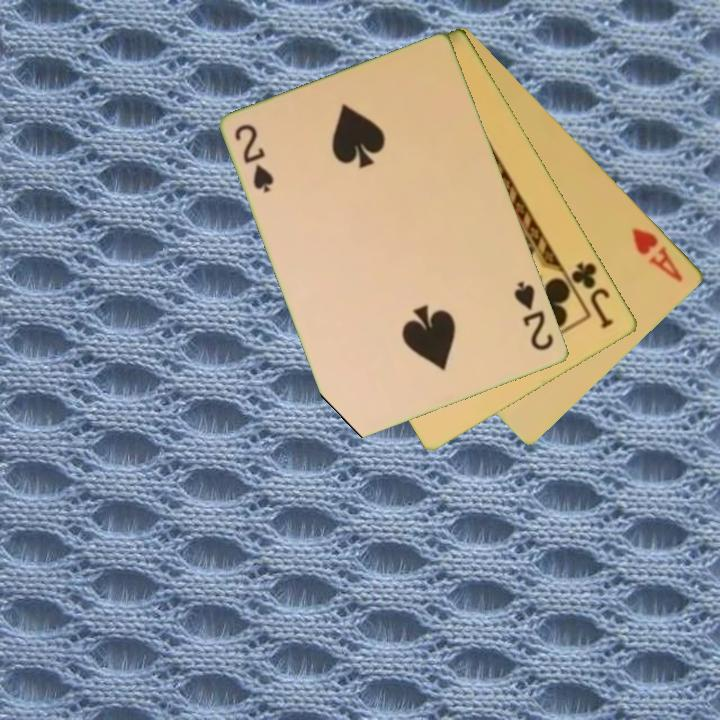2s: (511, 278, 557, 354), (231, 120, 277, 196)
Ah: (628, 224, 687, 285)
Jc: (568, 258, 617, 332)
